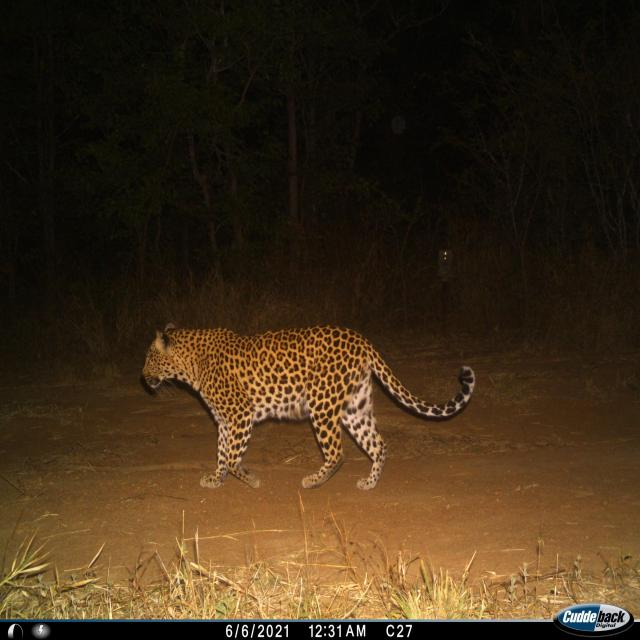Leopard: (143, 320, 466, 497)
